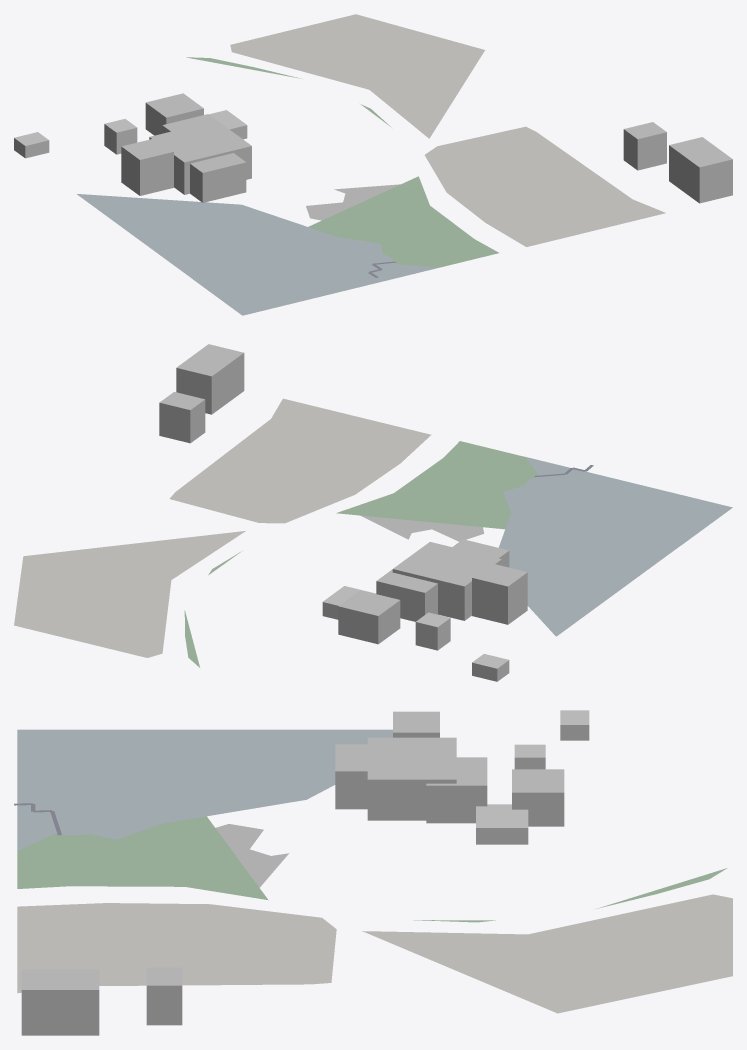
Rendered from 137_113_mid.glb.
3 views of the same model, one above another, from view 1: azimuth 30°, elevation 25°; view 2: azimuth 150°, elevation 25°; view 3: azimuth 270°, elevation 25° (orthographic). The views are drawn at different scales.
Size of the model in its own units: 507 by 36.78 by 502.
